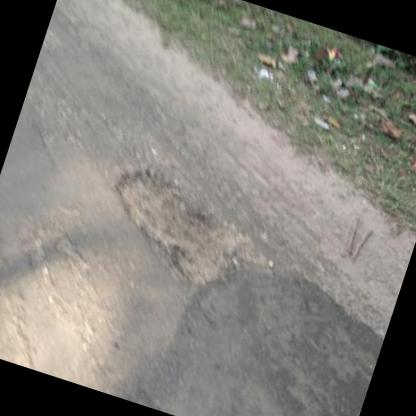pothole: (91, 157, 256, 292)
